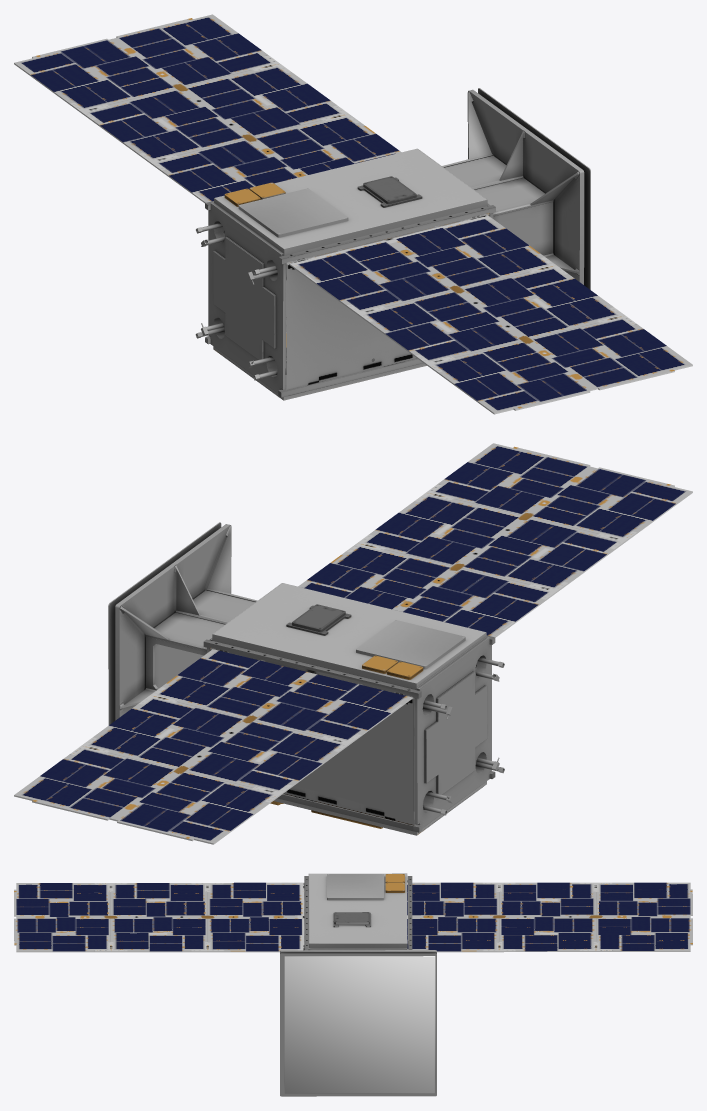
The model's file is CAPSTONE.fbx.
3 renders of one model, top to bottom at view 1: azimuth 30°, elevation 25°; view 2: azimuth 150°, elevation 25°; view 3: azimuth 270°, elevation 25°, orthographic. The views are drawn at different scales.
Parts seen in each view (by area): view 1: solar_panel1, main_body1, solar_panel2, payload1, thruster1; view 2: solar_panel2, solar_panel1, main_body1, payload1, thruster1; view 3: payload1, solar_panel1, solar_panel2, main_body1.
Part boxes in pixels (box(x1,y1,x2,y2)): solar_panel1: box(289, 215, 692, 414); main_body1: box(205, 148, 495, 400); solar_panel2: box(14, 14, 401, 203); payload1: box(442, 88, 590, 289); thruster1: box(195, 223, 286, 380); solar_panel2: box(14, 649, 412, 844); solar_panel1: box(298, 443, 692, 637); main_body1: box(203, 583, 495, 835); payload1: box(108, 522, 257, 725); thruster1: box(423, 657, 504, 815); payload1: box(280, 950, 436, 1096); solar_panel1: box(14, 882, 304, 952); solar_panel2: box(407, 882, 692, 952); main_body1: box(304, 873, 412, 950).
Bounding box in the file's own units: 53 × 33.05 × 143.
5 materials, 3 textured.
